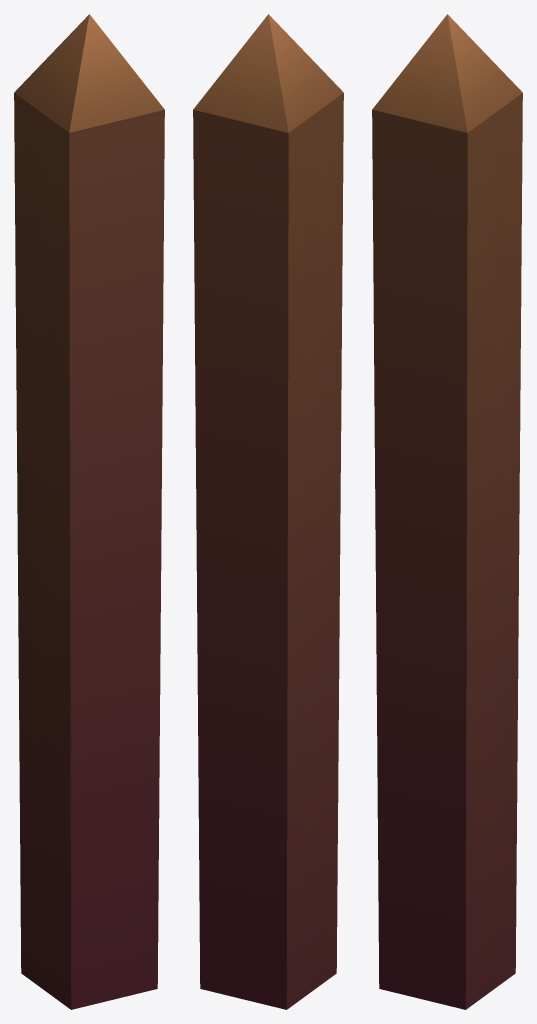
The model's file is TSP_Fence_Wood_01B_Pole.fbx.
3 renders of one model, left to right at view 1: azimuth 30°, elevation 25°; view 2: azimuth 150°, elevation 25°; view 3: azimuth 330°, elevation 25°, orthographic.
Visible parts, largest first — view 1: TSP_Fence_Wood_01B_Pole; view 2: TSP_Fence_Wood_01B_Pole; view 3: TSP_Fence_Wood_01B_Pole.
Boxes of the visible parts, x1,y1,x2,y2 form: TSP_Fence_Wood_01B_Pole: (14, 14, 164, 1009); TSP_Fence_Wood_01B_Pole: (193, 14, 343, 1009); TSP_Fence_Wood_01B_Pole: (372, 14, 522, 1009).
Bounding box in the file's own units: 0.15 × 1.45 × 0.15.
